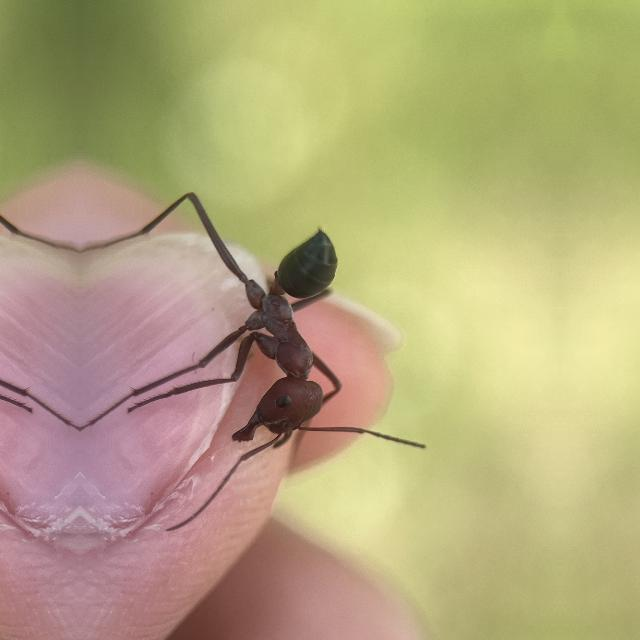Cataglyphis: (196, 200, 368, 476)
